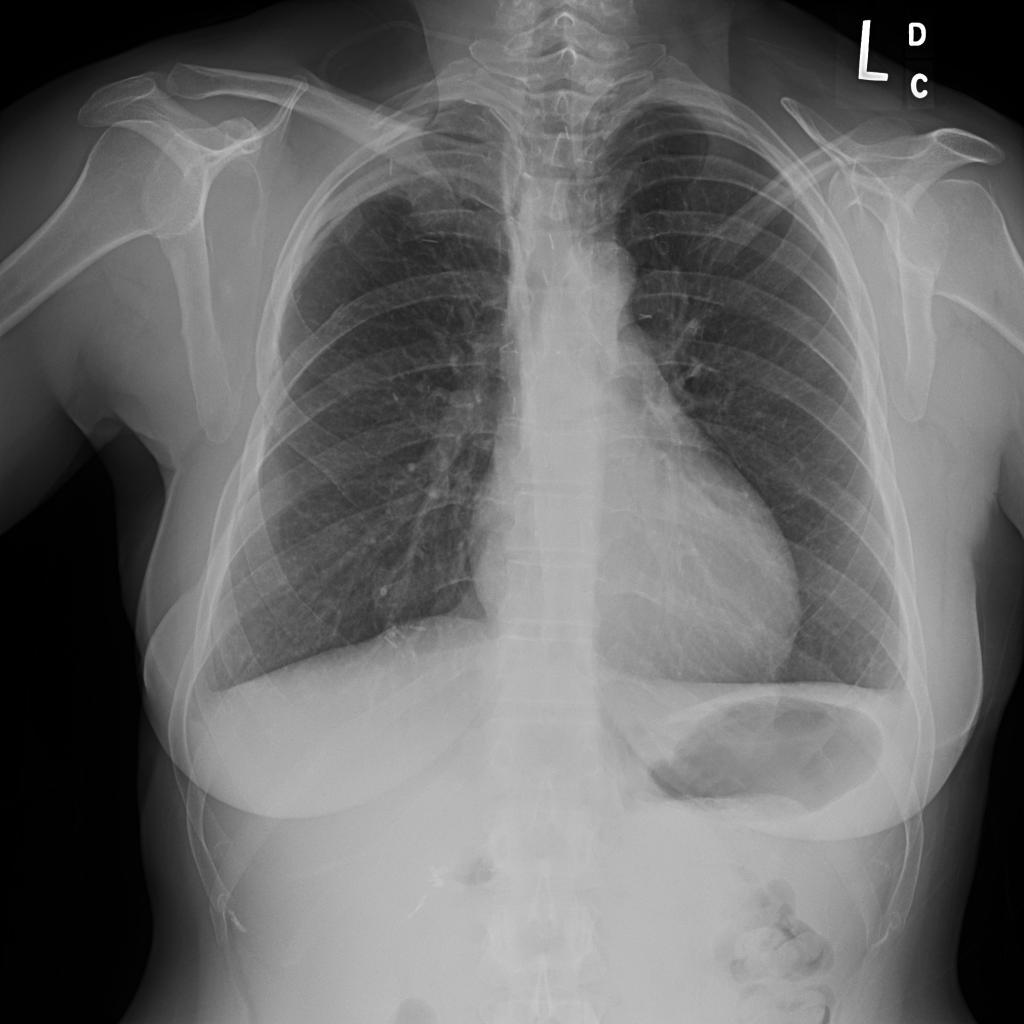Nodule: (203, 224, 235, 252), (191, 256, 220, 282), (162, 260, 186, 283), (372, 313, 394, 334)
